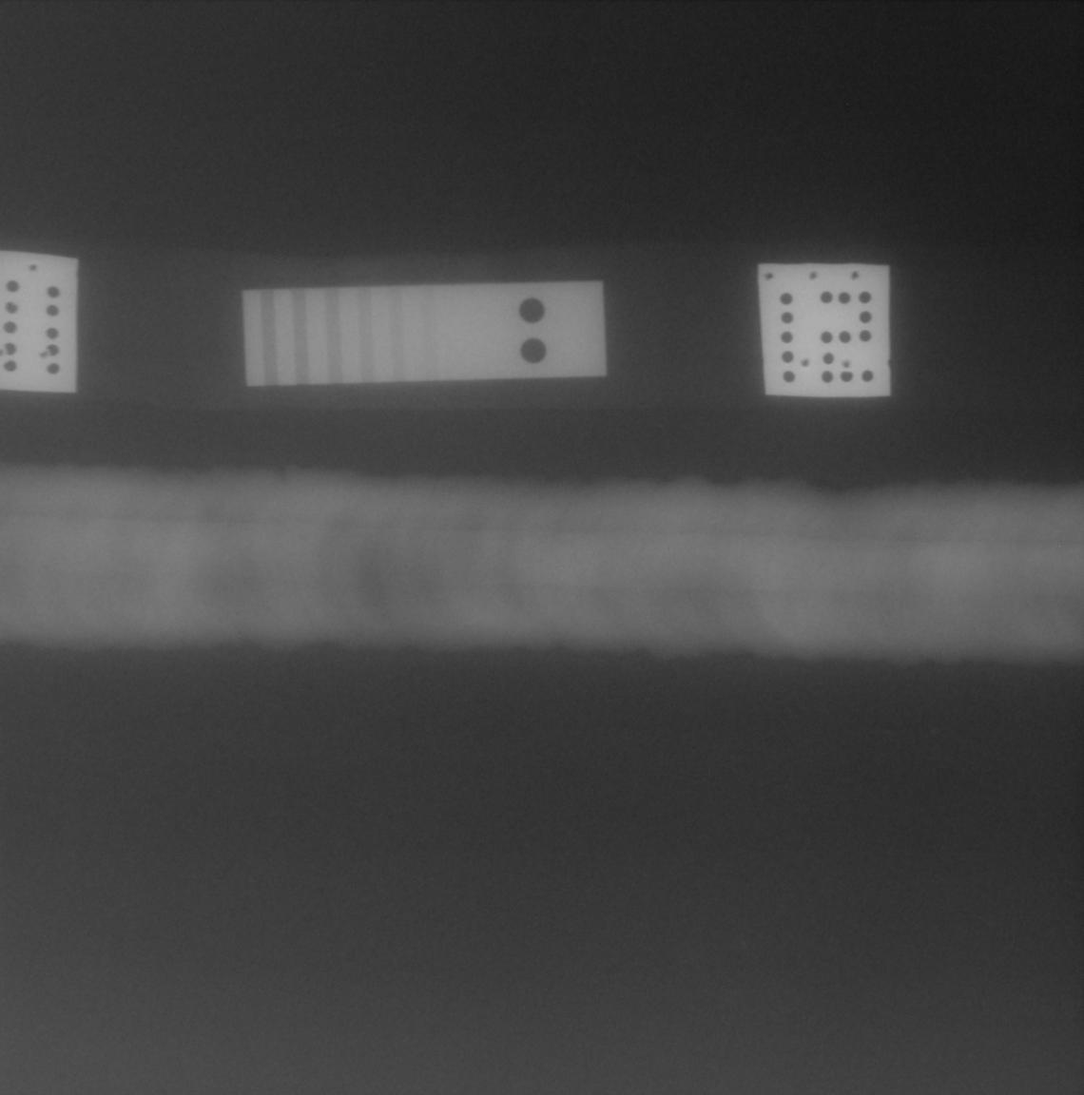Pore/Porosity: (373, 551, 378, 554), (385, 549, 388, 553)
Reference Standard 2: (242, 280, 607, 386)
